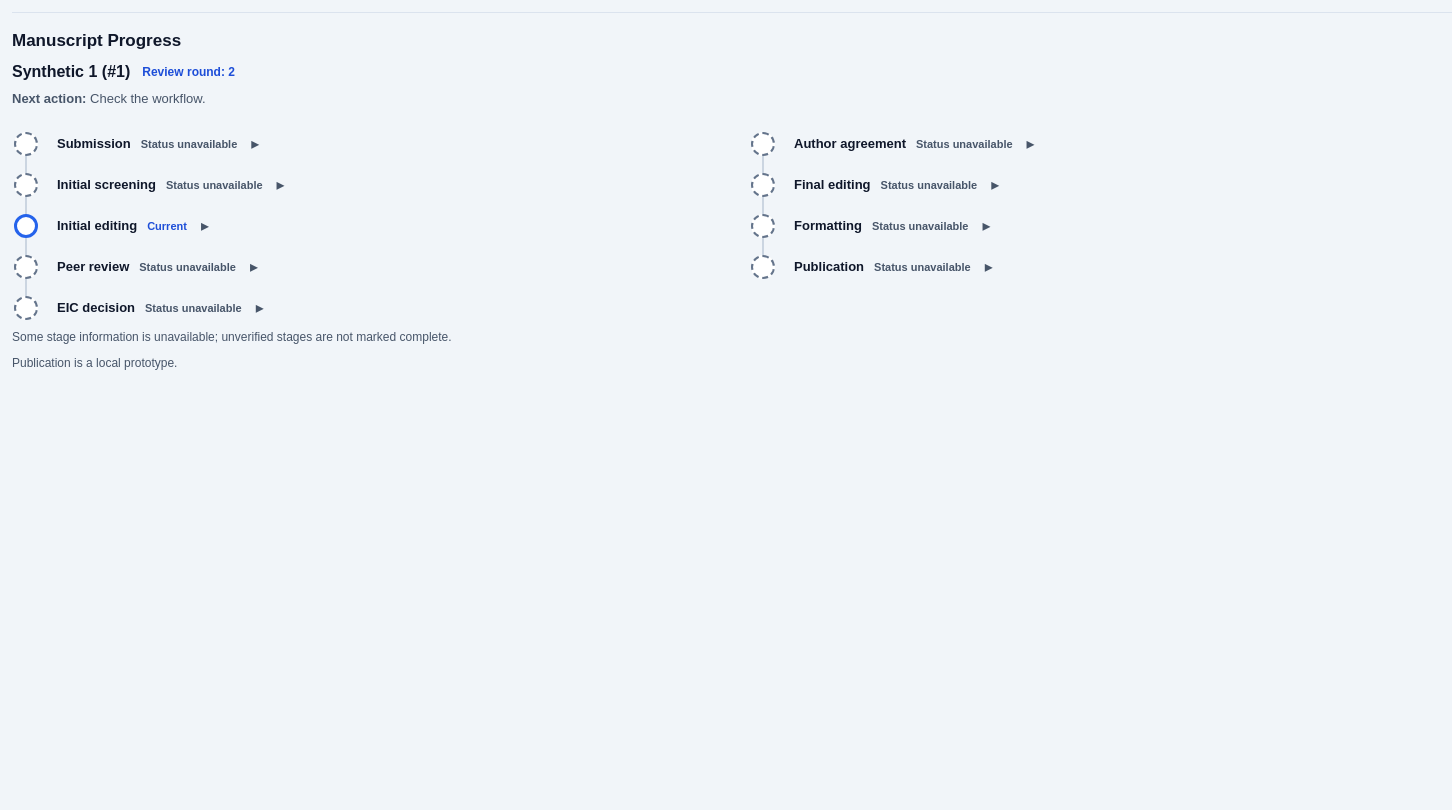
Test: presents unverified history neutrally and expands only supplied milestones
This screenshot has width=1452, height=810.
Expected: the text "Synthetic 1 (#1)" is shown, [12,63,130,81]
Expected: the text "Review round: 2" is shown, [142,65,235,79]
Click the heading "Initial editing Current". click: coordinates (122, 226)
box: [57,218,187,233]
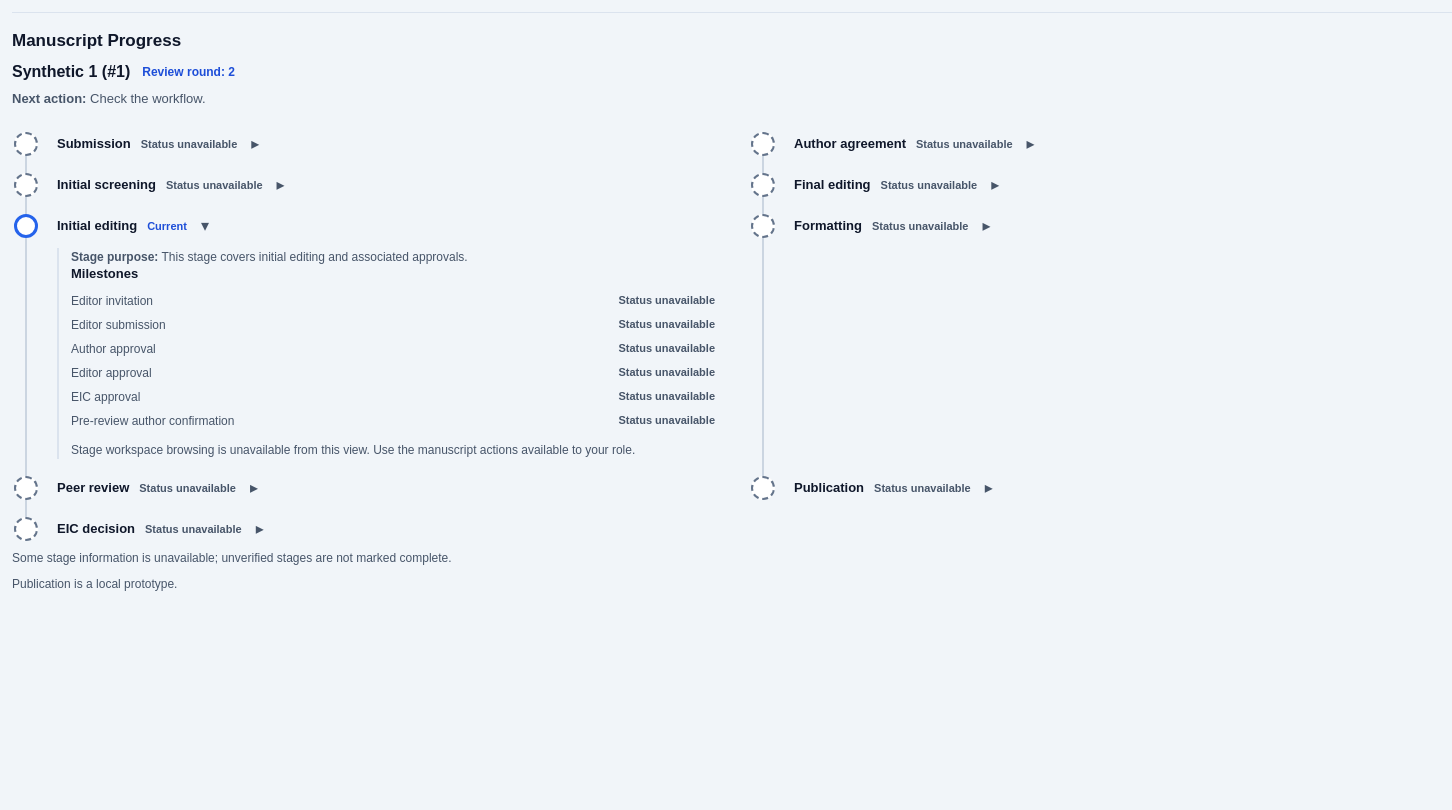
Expected: the heading "Milestones" is shown, [71,266,138,281]
Expected: the text "Editor invitation" is shown, [71,294,153,308]
Expected: the text "Editor submission" is shown, [71,318,166,332]
